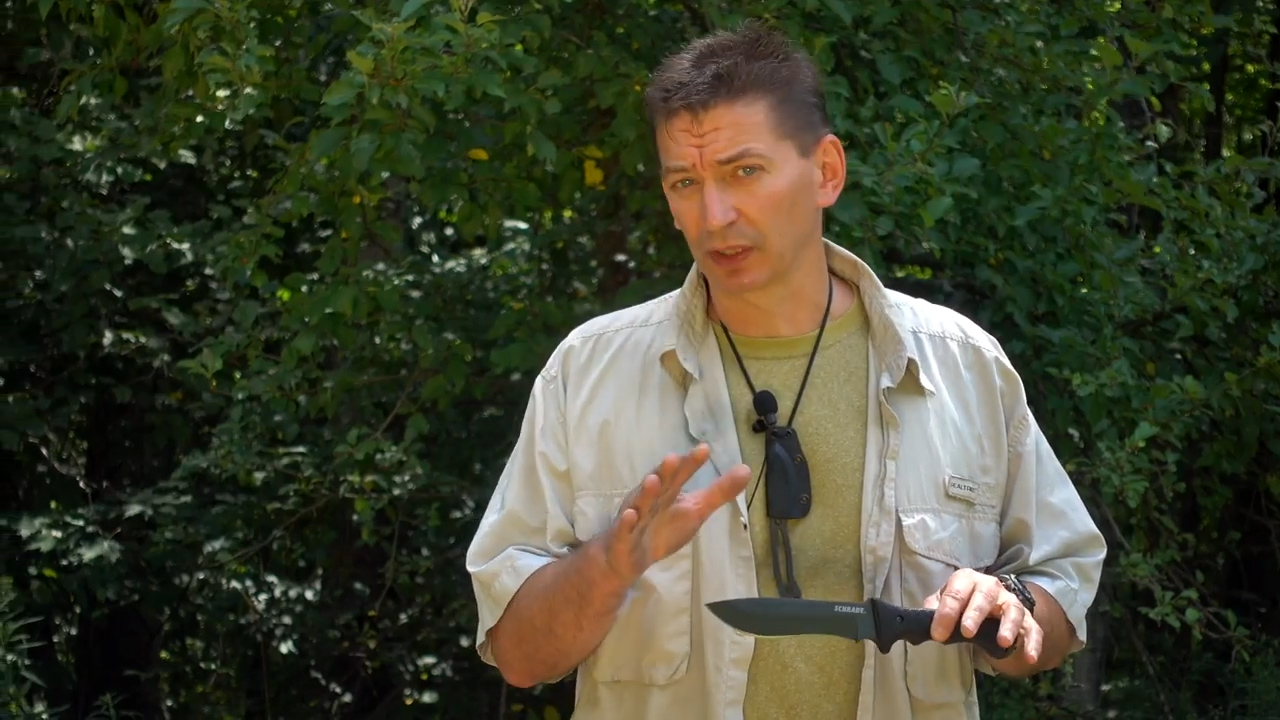knife: (694, 565, 1049, 671)
